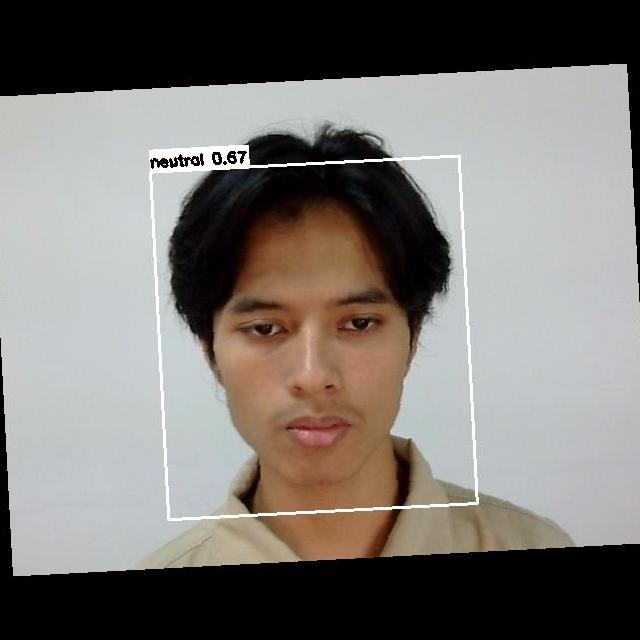Natural: (219, 283, 424, 455)
